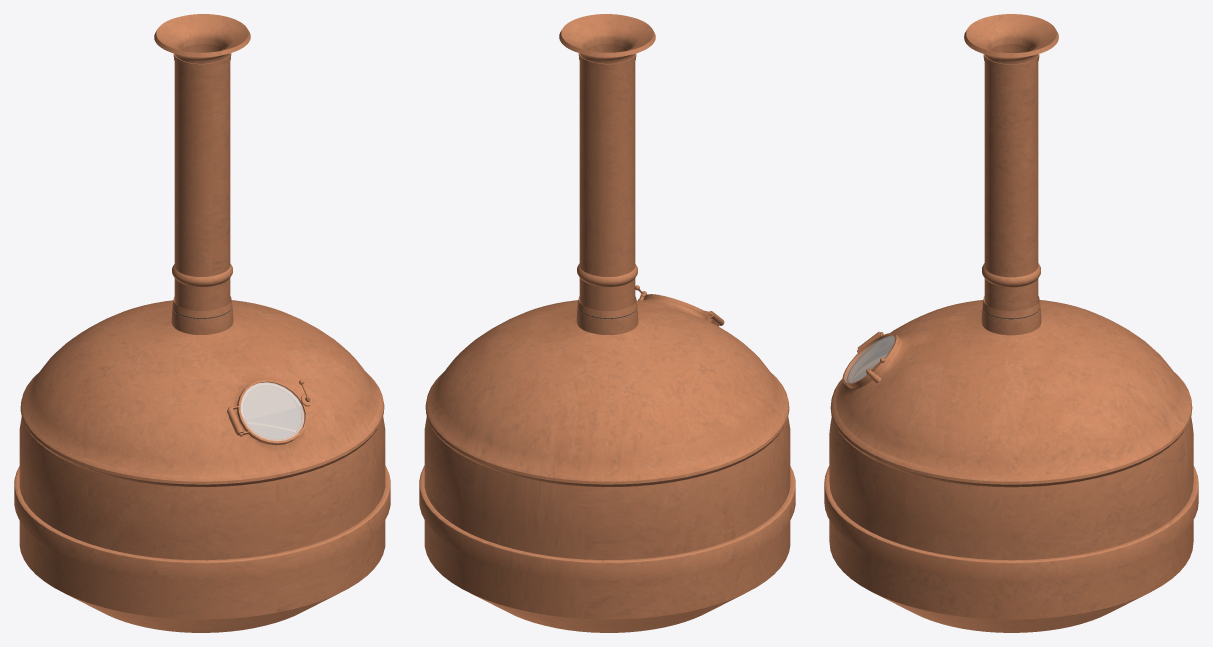
Rendered from Brew_Tank.fbx.
3 renders of one model, left to right at view 1: azimuth 30°, elevation 25°; view 2: azimuth 150°, elevation 25°; view 3: azimuth 270°, elevation 25°, orthographic.
Visible parts, largest first — view 1: 02_BrewTank_Läutern, 02_BrewTank_Läutern_Front; view 2: 02_BrewTank_Läutern, 02_BrewTank_Läutern_Front; view 3: 02_BrewTank_Läutern, 02_BrewTank_Läutern_Front.
Part boxes in pixels (left/top/right/bottom): 02_BrewTank_Läutern: left=14, top=14, right=390, bottom=632; 02_BrewTank_Läutern_Front: left=87, top=344, right=379, bottom=476; 02_BrewTank_Läutern: left=419, top=14, right=795, bottom=632; 02_BrewTank_Läutern_Front: left=551, top=285, right=784, bottom=415; 02_BrewTank_Läutern: left=824, top=14, right=1198, bottom=632; 02_BrewTank_Läutern_Front: left=835, top=305, right=952, bottom=472.
Size of the model in its own units: 331 by 529 by 329.
